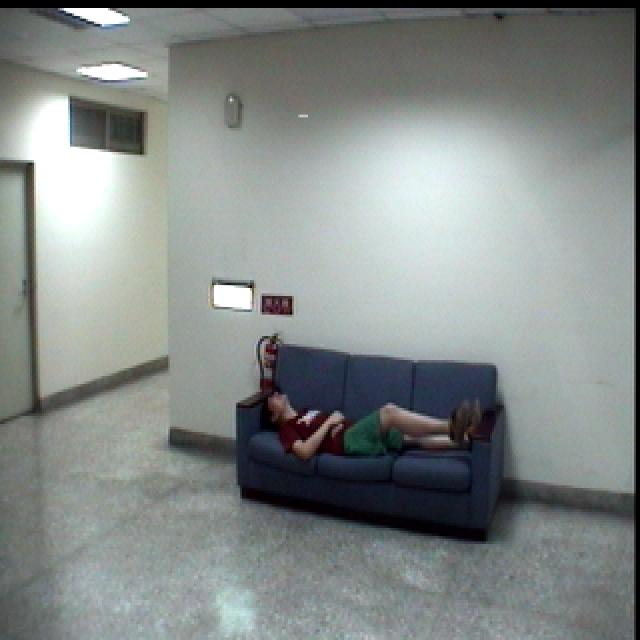lie: (262, 376, 490, 473)
